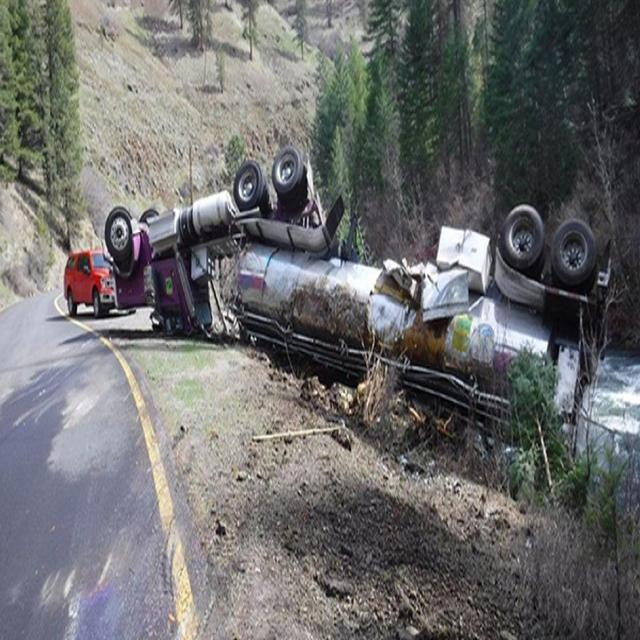Accident: (237, 202, 640, 521), (61, 138, 346, 336)
